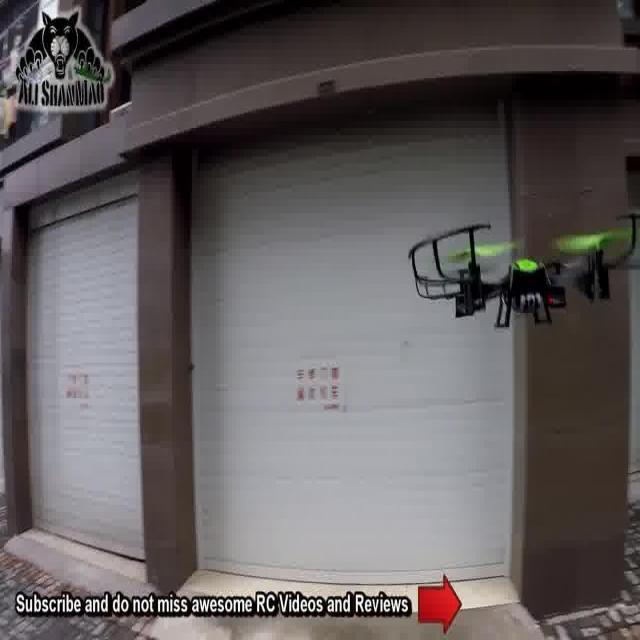drone: (401, 174, 639, 334)
